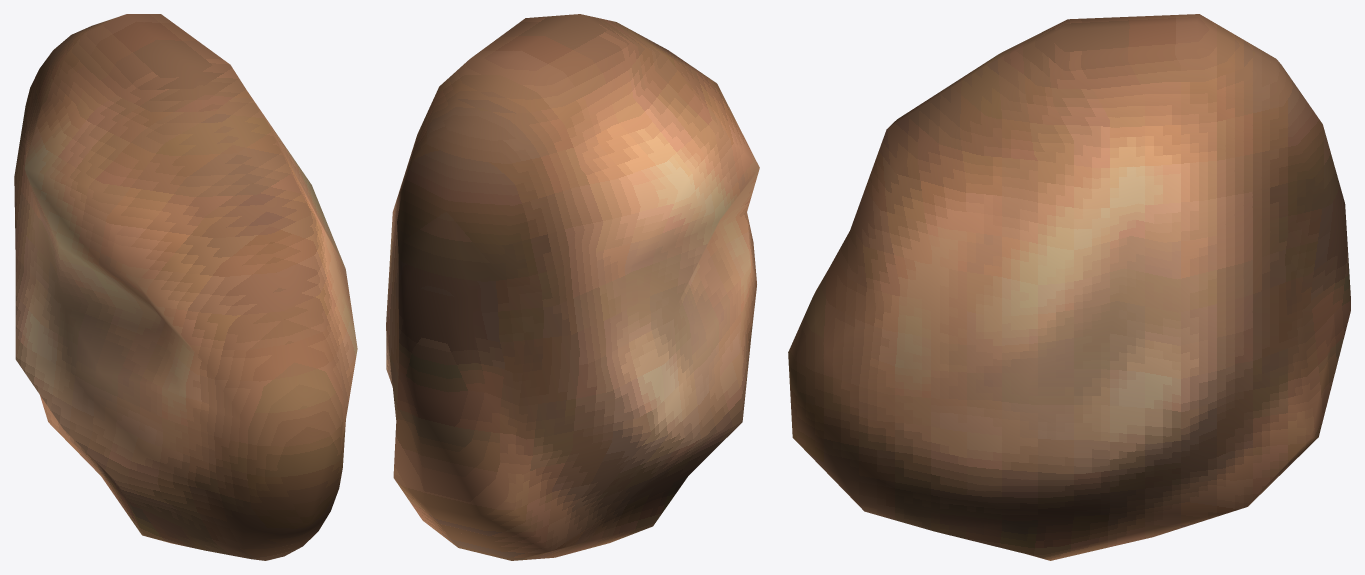
Rendered from THROWINGSTONE.fbx.
The picture shows the model from 3 angles, left to right: view 1: azimuth 30°, elevation 25°; view 2: azimuth 150°, elevation 25°; view 3: azimuth 270°, elevation 25°; orthographic projection. The views are drawn at different scales.
Visible parts, largest first — view 1: THROWINGSTONE; view 2: THROWINGSTONE; view 3: THROWINGSTONE.
Part boxes in pixels (x1,y1,x2,y2): THROWINGSTONE: (14,14,357,560); THROWINGSTONE: (386,14,759,560); THROWINGSTONE: (788,14,1350,560).
Bounding box in the file's own units: 808 × 1453 × 1407.
1 material, 1 textured.
